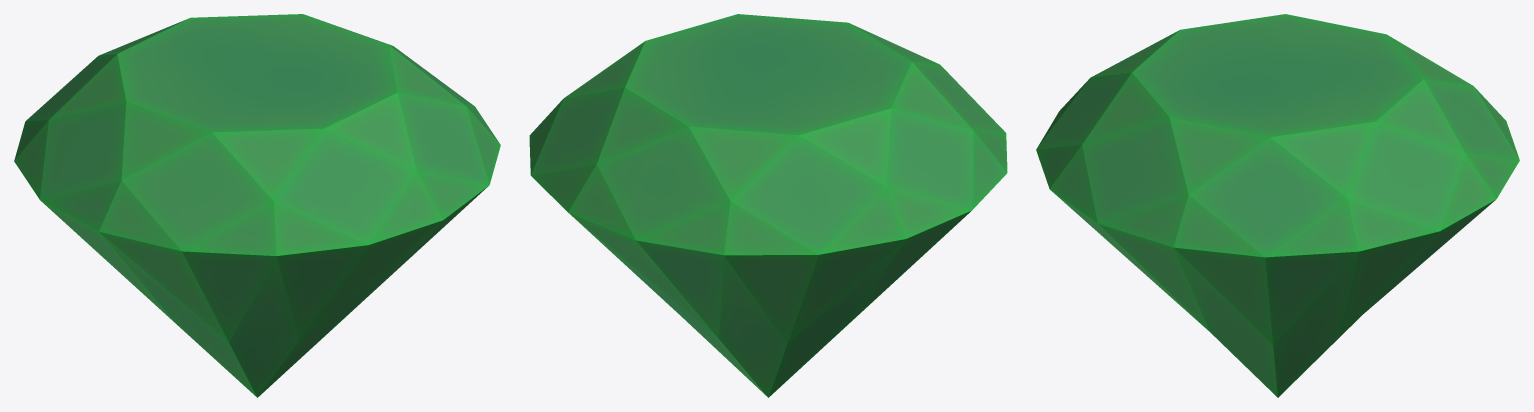
File: Gem.gltf
3 views of the same model, side by side, from view 1: azimuth 30°, elevation 25°; view 2: azimuth 150°, elevation 25°; view 3: azimuth 270°, elevation 25° (orthographic).
Bounding box in the file's own units: 39.83 × 29.27 × 39.83.
Materials: 1 (1 with a texture image).
